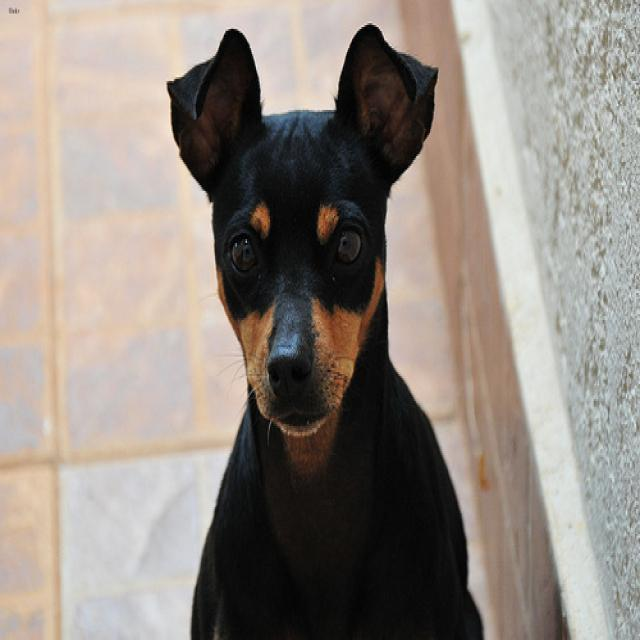dog-miniature_pinscher: (160, 13, 495, 636)
